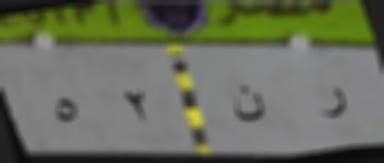2: (120, 84, 154, 134)
5: (45, 90, 87, 133)
noon: (220, 72, 277, 142)
raa: (312, 83, 355, 128)
